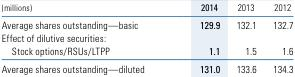table: (0, 1, 292, 74)
table column: (0, 1, 171, 74), (171, 1, 227, 74), (227, 1, 264, 74), (264, 1, 292, 74)
table column header: (0, 1, 292, 15)
table projected row header: (0, 31, 292, 43)
table row: (0, 15, 292, 31), (0, 58, 292, 74), (0, 43, 292, 58), (0, 1, 292, 15), (0, 31, 292, 43)
